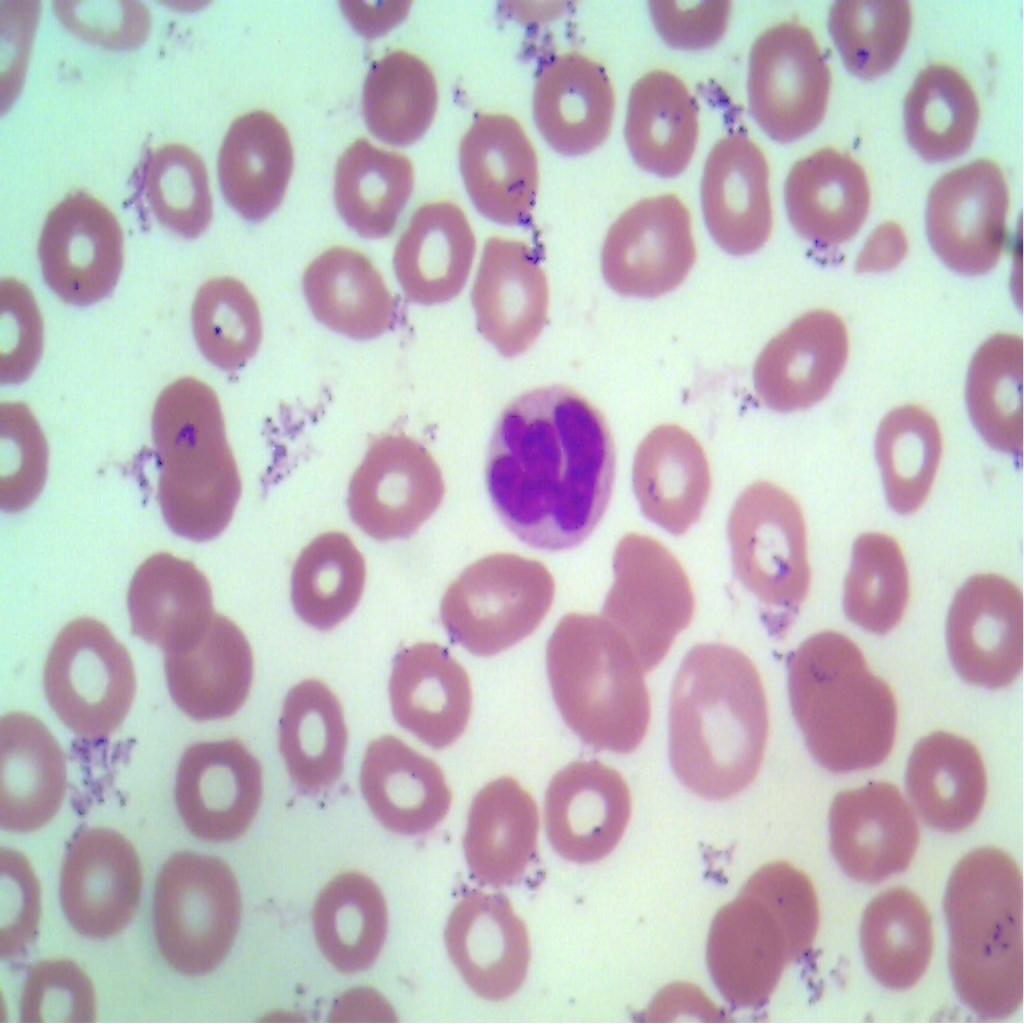Eritrosit: (661, 641, 775, 815), (734, 284, 858, 432), (589, 518, 703, 672), (26, 175, 138, 327), (541, 612, 651, 755), (146, 444, 268, 572), (715, 468, 811, 612), (431, 548, 556, 657), (618, 411, 715, 545), (38, 612, 136, 742), (924, 139, 1018, 274), (449, 106, 546, 236), (596, 184, 691, 314), (166, 728, 276, 840), (186, 257, 280, 388), (361, 722, 455, 852), (743, 18, 841, 142), (688, 125, 775, 264), (438, 877, 543, 992), (818, 768, 926, 878), (146, 859, 244, 980), (535, 757, 636, 874), (346, 424, 446, 542), (795, 671, 901, 781), (288, 239, 398, 344), (524, 38, 614, 166), (474, 228, 562, 358), (935, 562, 1023, 691), (118, 542, 216, 657), (893, 42, 981, 170), (168, 611, 261, 732), (304, 865, 402, 978), (902, 708, 986, 838), (210, 95, 290, 230), (55, 811, 133, 948), (383, 194, 473, 312), (268, 671, 351, 797), (826, 525, 916, 639), (855, 879, 944, 994), (731, 858, 823, 968), (461, 760, 546, 879), (621, 68, 708, 184), (0, 398, 74, 532), (699, 897, 781, 1016), (134, 136, 218, 250), (394, 634, 478, 748), (869, 394, 946, 515), (779, 147, 866, 252), (944, 328, 1023, 440), (786, 618, 871, 721), (359, 38, 434, 152), (944, 915, 1023, 1023), (282, 518, 358, 630), (946, 840, 1024, 942), (338, 138, 411, 244), (148, 368, 223, 471), (13, 942, 98, 1023), (0, 728, 73, 822), (831, 0, 910, 85), (0, 269, 46, 385), (859, 204, 908, 291)
Neutrofil: (483, 378, 622, 562)
